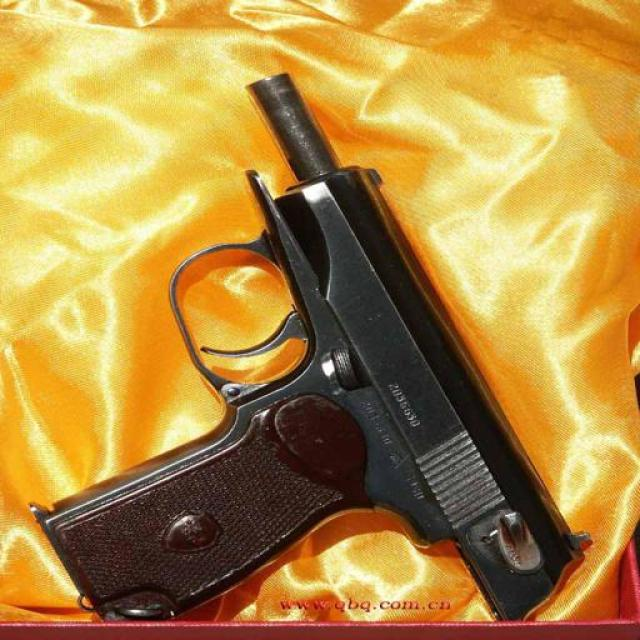pistol: (35, 69, 587, 621)
